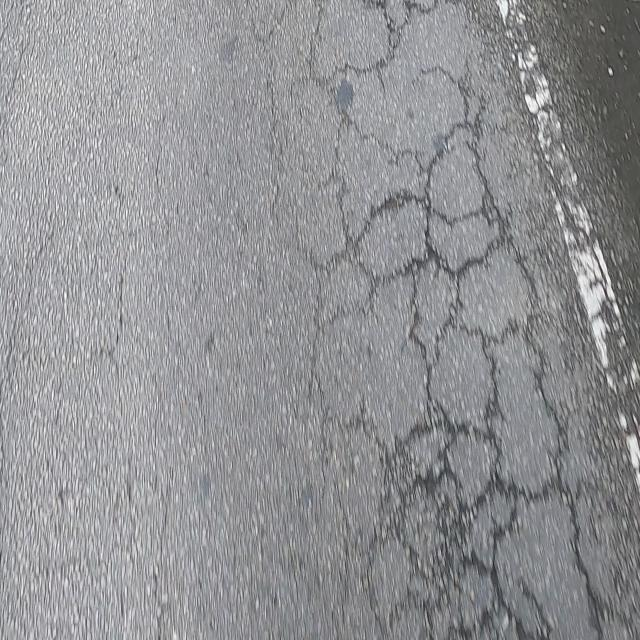Retak-Buaya: (301, 0, 609, 640)
